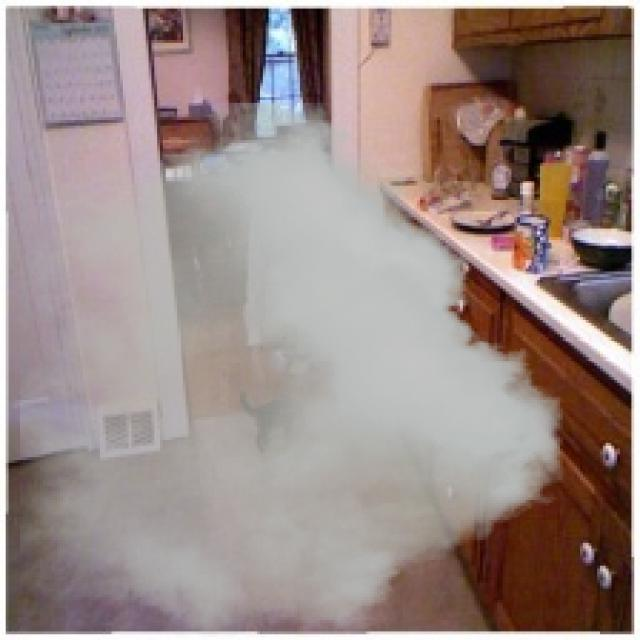smoke: (20, 103, 563, 637)
